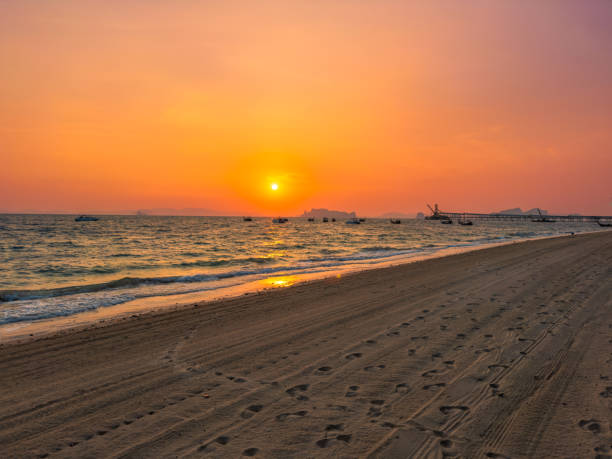human_footprint: (19, 243, 543, 451), (31, 264, 414, 386), (419, 263, 597, 455), (486, 285, 605, 456), (67, 404, 168, 446), (316, 423, 351, 447), (198, 435, 229, 451), (316, 434, 351, 447), (285, 384, 309, 400), (241, 404, 263, 419), (578, 419, 601, 433), (276, 410, 307, 420), (367, 399, 384, 416), (439, 438, 455, 456), (594, 442, 611, 458), (439, 405, 468, 414), (489, 382, 504, 397), (421, 369, 443, 377), (422, 382, 445, 389), (226, 375, 246, 383), (345, 385, 359, 396), (242, 447, 258, 456), (485, 452, 509, 458), (394, 383, 410, 392), (599, 386, 611, 397), (381, 421, 397, 429), (315, 366, 331, 374), (364, 364, 385, 370), (325, 424, 343, 431), (214, 436, 229, 444), (336, 434, 351, 442), (345, 352, 362, 359), (410, 335, 429, 341), (370, 399, 385, 406), (488, 364, 508, 369), (431, 352, 443, 360), (386, 330, 399, 336), (365, 339, 377, 345), (443, 360, 454, 366), (439, 324, 448, 331), (400, 322, 410, 328), (456, 333, 466, 338), (408, 348, 415, 355), (483, 334, 493, 338)
